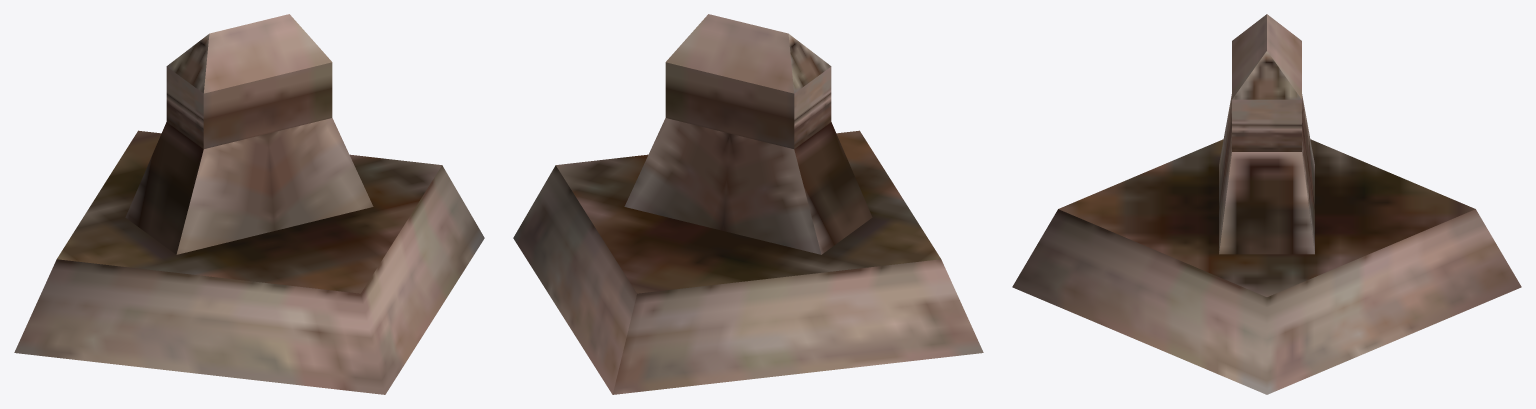
The model's file is merchant_cruiser_medium_turretbase_s01_l2.fbx.
The picture shows the model from 3 angles, left to right: view 1: azimuth 30°, elevation 25°; view 2: azimuth 150°, elevation 25°; view 3: azimuth 270°, elevation 25°; orthographic projection. The views are drawn at different scales.
Visible parts, largest first — view 1: mesh_node; view 2: mesh_node; view 3: mesh_node.
Part boxes in pixels (left/top/right/bottom): mesh_node: left=14, top=14, right=484, bottom=394; mesh_node: left=513, top=14, right=983, bottom=394; mesh_node: left=1012, top=14, right=1521, bottom=394.
Bounding box in the file's own units: 6.38 × 3.52 × 6.38.
Materials: 1 (1 with a texture image).
